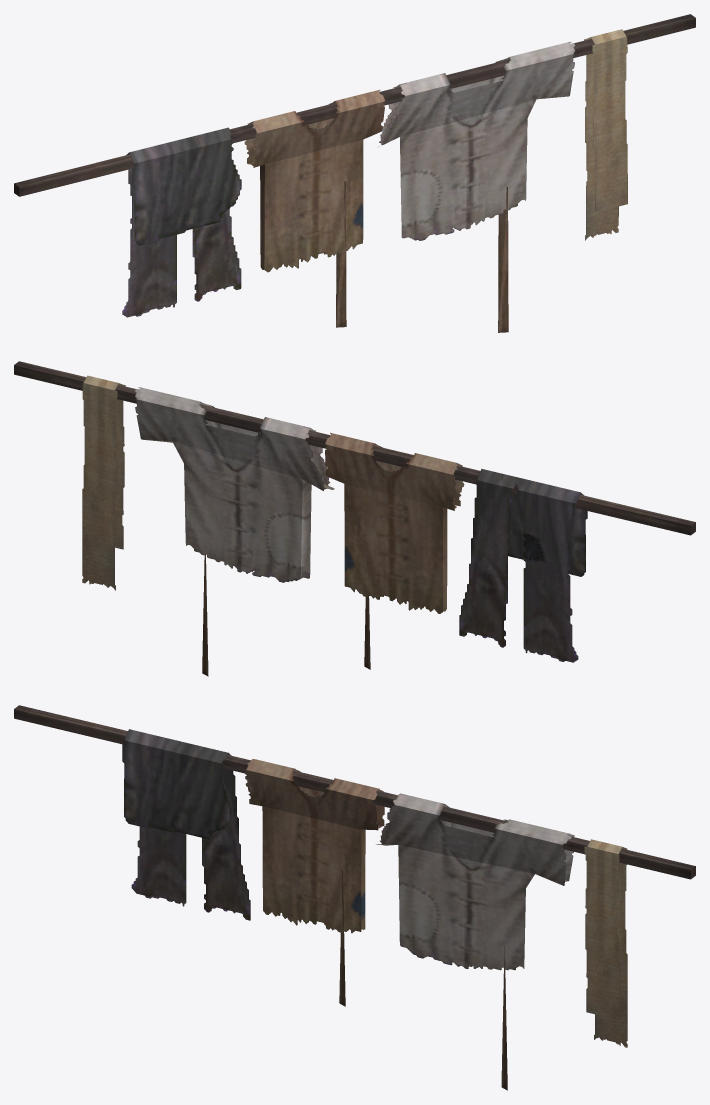
Rendered from 布摊架01.fbx.
3 views of the same model, one above another, from view 1: azimuth 30°, elevation 25°; view 2: azimuth 150°, elevation 25°; view 3: azimuth 330°, elevation 25° (orthographic).
Parts seen in each view (by area): view 1: qingmo_obj_290 [10484735]; view 2: qingmo_obj_290 [10484735]; view 3: qingmo_obj_290 [10484735].
Part boxes in pixels (box(x1,y1,x2,y2)): qingmo_obj_290 [10484735]: box(14, 14, 695, 332); qingmo_obj_290 [10484735]: box(14, 361, 695, 676); qingmo_obj_290 [10484735]: box(14, 705, 695, 1090).
Size of the model in its own units: 30.85 by 1.09 by 11.9.
1 material, 1 textured.
